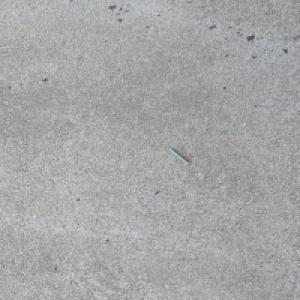Screw: (166, 147, 191, 165)
